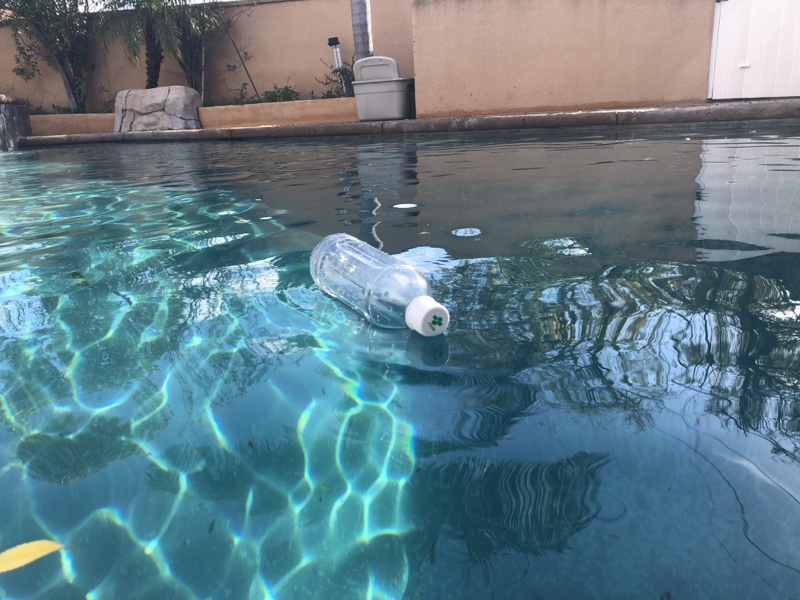Plastic Bottle: (306, 230, 451, 343)
